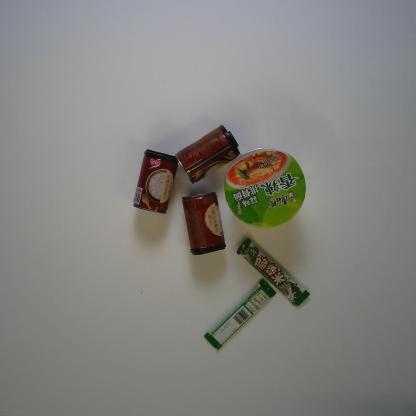Canned Food: (174, 124, 241, 185), (132, 148, 179, 215), (180, 190, 226, 256)
Chocolate: (204, 277, 277, 351), (235, 236, 311, 307)
Instant Noodles: (223, 146, 307, 230)
